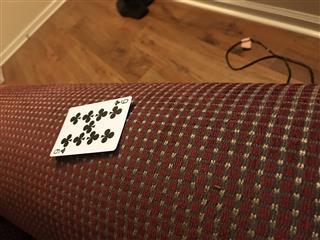NineOfClubs: (48, 95, 133, 158)
